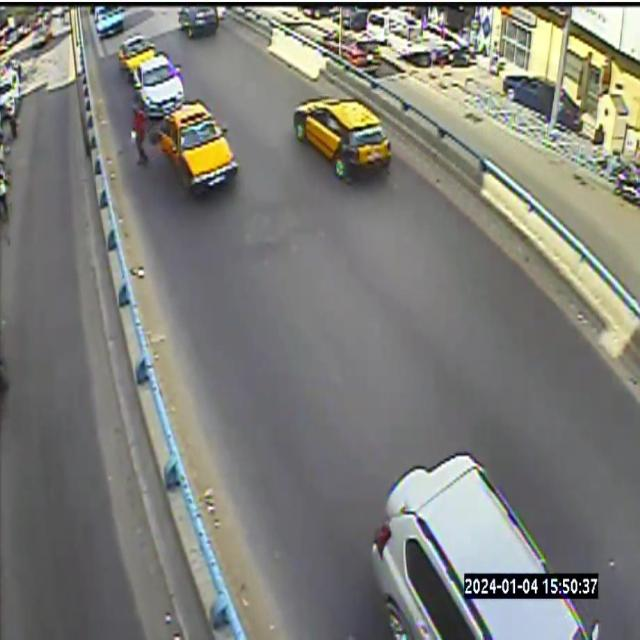car: (371, 453, 598, 639), (293, 99, 392, 181), (154, 100, 237, 192), (133, 51, 184, 120), (119, 35, 155, 77), (179, 5, 219, 37), (94, 7, 125, 38)
